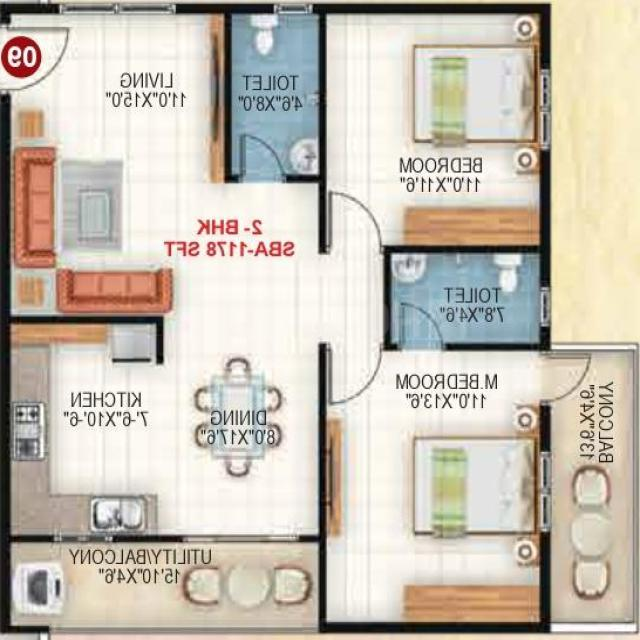Balcony-Sitout: (549, 351, 637, 623)
Bedroom: (322, 12, 540, 245)
Bedroom with Toilet: (321, 250, 544, 626)
Dining: (184, 356, 284, 484)
Kitchen: (8, 327, 154, 542)
Living: (5, 16, 221, 311)
Toilet: (230, 18, 312, 176), (394, 257, 538, 344)
Utility: (12, 547, 319, 631)
